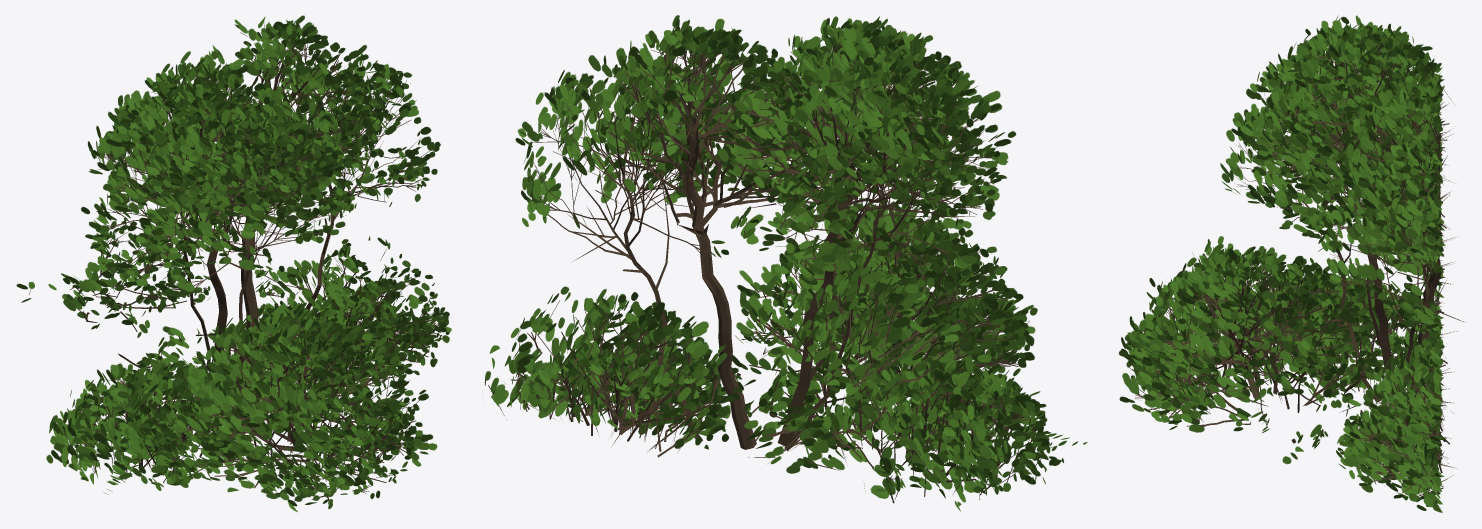
The picture shows the model from 3 angles, left to right: view 1: azimuth 30°, elevation 25°; view 2: azimuth 150°, elevation 25°; view 3: azimuth 270°, elevation 25°; orthographic projection. The views are drawn at different scales.
Visible parts, largest first — view 1: oak 01.001_trunk_Mat.001_0.465; view 2: oak 01.001_trunk_Mat.001_0.465; view 3: oak 01.001_trunk_Mat.001_0.465.
Boxes of the visible parts, x1,y1,x2,y2 form: oak 01.001_trunk_Mat.001_0.465: (16,15,451,511); oak 01.001_trunk_Mat.001_0.465: (485,15,1087,511); oak 01.001_trunk_Mat.001_0.465: (1118,15,1464,512).
Bounding box in the file's own units: 4.89 × 4.08 × 3.4.
2 materials, 1 textured.
